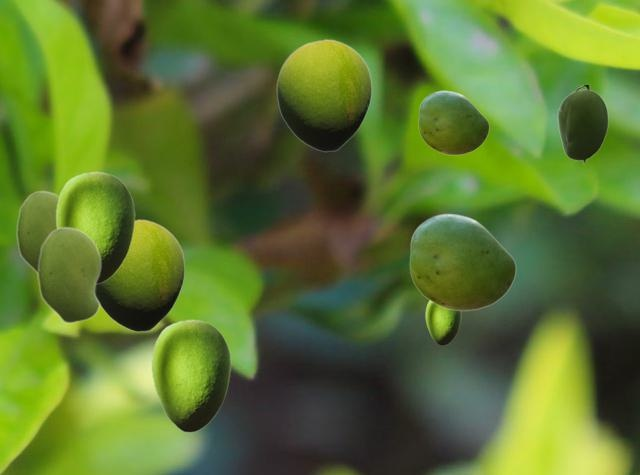green_mango: (276, 39, 371, 151), (409, 213, 515, 310), (97, 219, 184, 331), (55, 171, 134, 283), (151, 319, 230, 431), (37, 226, 101, 323), (418, 90, 488, 154), (557, 85, 607, 163), (16, 190, 57, 273), (425, 301, 460, 344)
